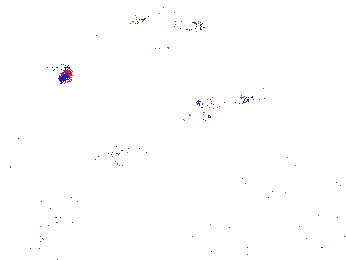glassfish: (36, 143, 145, 189)
red belly glassfish: (147, 107, 211, 127), (126, 37, 174, 56), (194, 95, 246, 109), (54, 65, 77, 86)
redtail glassfish: (130, 6, 208, 35)
